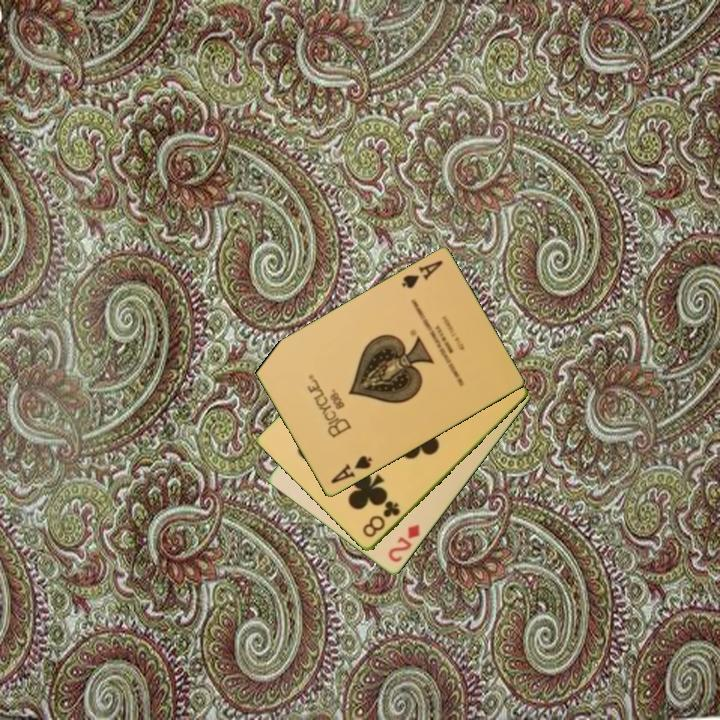2d: (385, 521, 423, 566)
8c: (359, 497, 403, 541)
As: (397, 257, 446, 292), (327, 452, 375, 487)
